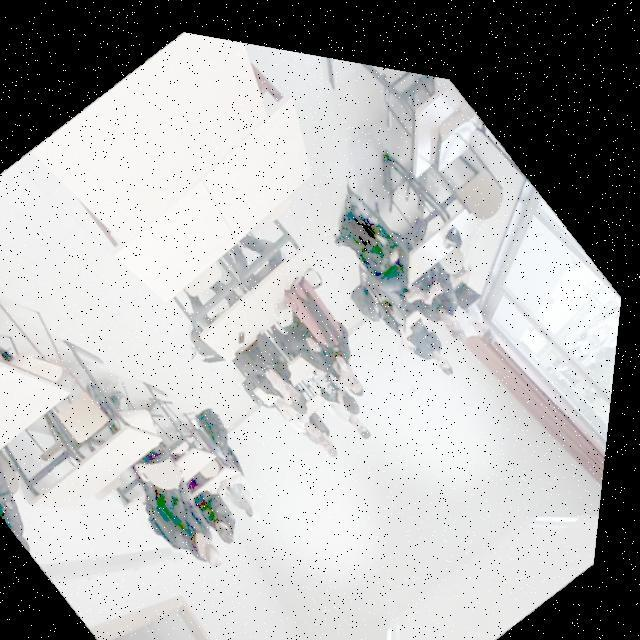phone_use: (304, 339, 361, 412), (194, 479, 251, 540), (219, 475, 251, 514)
